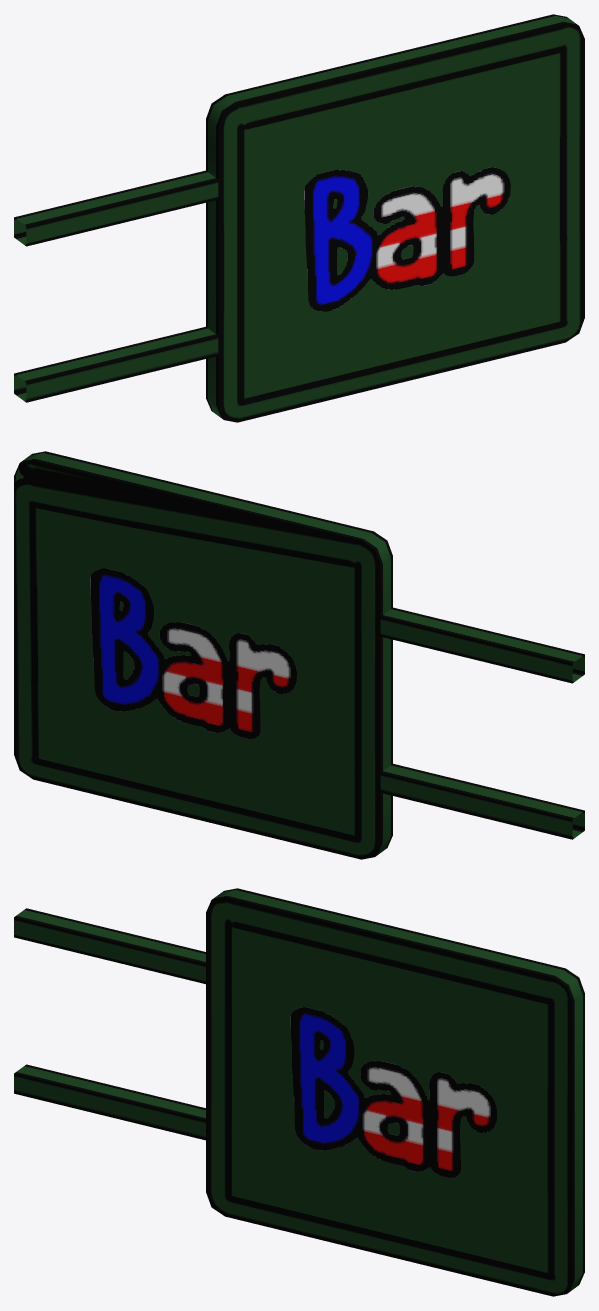
Rendered from Bar_Board.fbx.
The picture shows the model from 3 angles, top to bottom: view 1: azimuth 30°, elevation 25°; view 2: azimuth 150°, elevation 25°; view 3: azimuth 330°, elevation 25°; orthographic projection.
Visible parts, largest first — view 1: Bar_Board; view 2: Bar_Board; view 3: Bar_Board.
Part boxes in pixels (<box>): Bar_Board: <box>14,14,584,422</box>; Bar_Board: <box>14,451,584,859</box>; Bar_Board: <box>14,888,584,1296</box>.
Size of the model in its own units: 2.03 by 1.11 by 0.0854.
